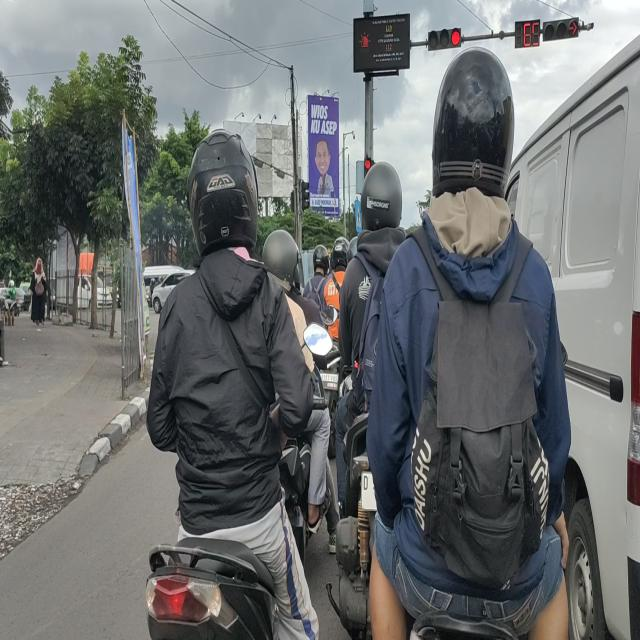helmet: (438, 47, 513, 195), (189, 130, 260, 246), (359, 162, 404, 238), (266, 230, 298, 289), (329, 234, 350, 271), (312, 241, 329, 274)
